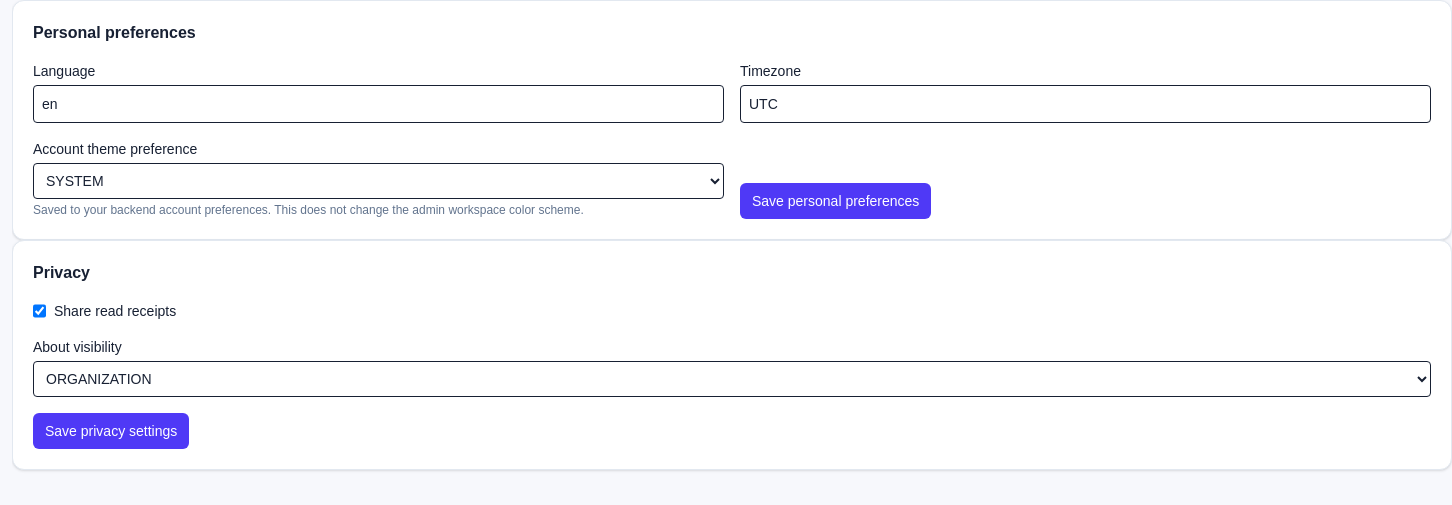
Scenario: persists actual privacy preferences without a fake success
Click the checkbox labelled "Share read receipts" at (40, 311), box [33,301,46,321]
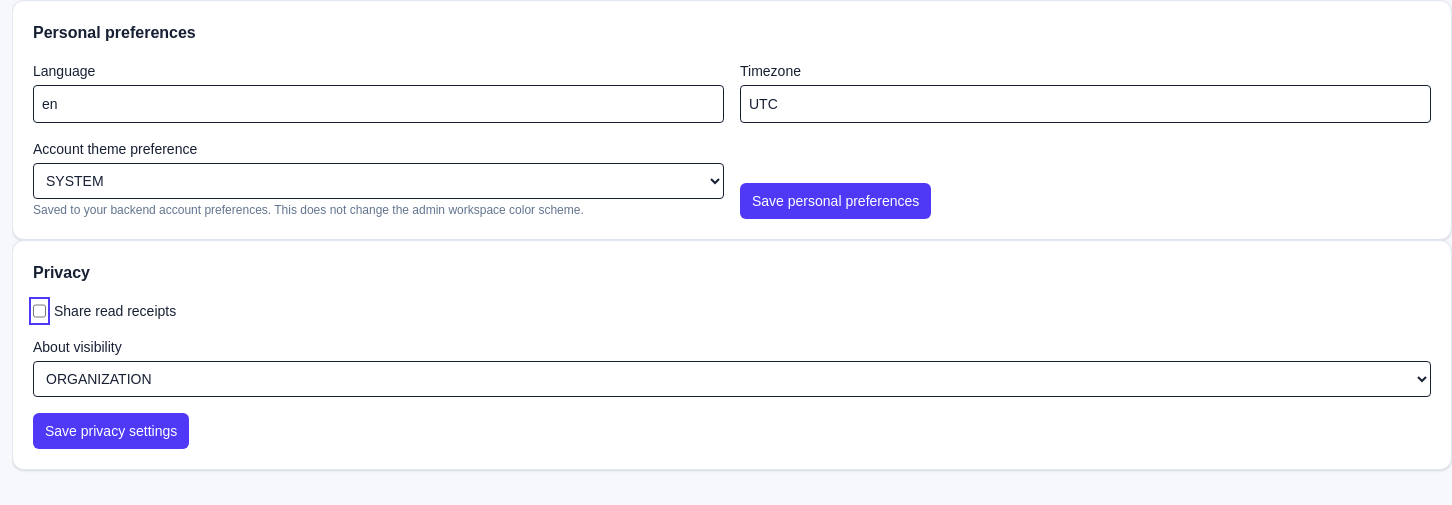
Click the button "Save privacy settings" at (111, 431), box [33,413,189,449]
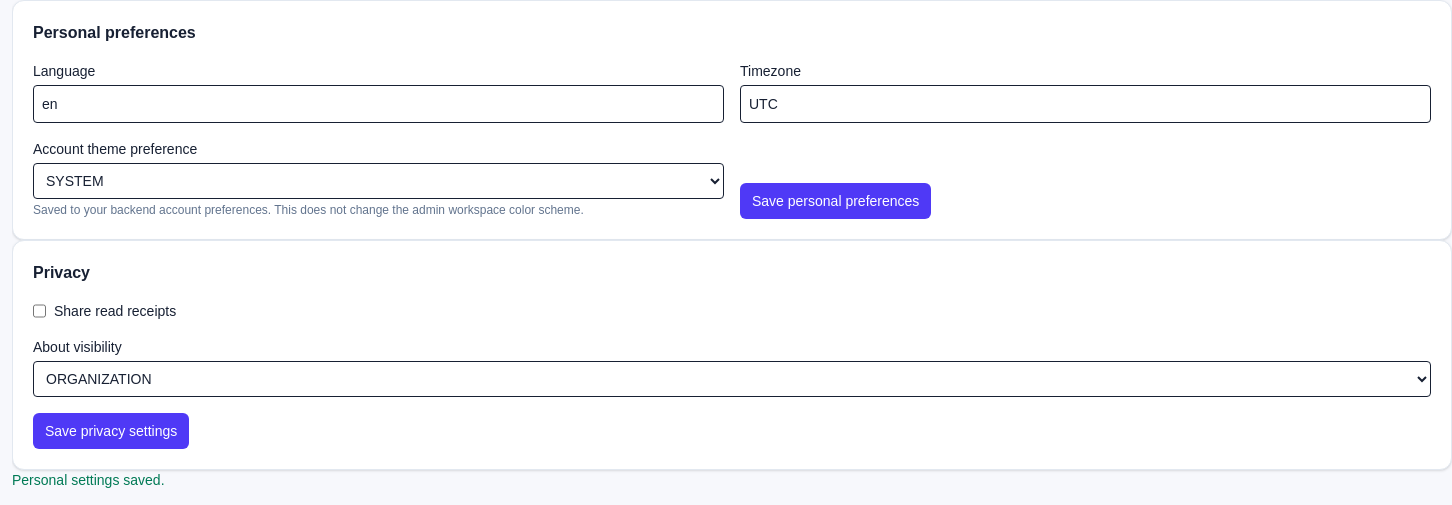
Expected: the text "Personal settings saved." is shown, [12,472,164,488]
